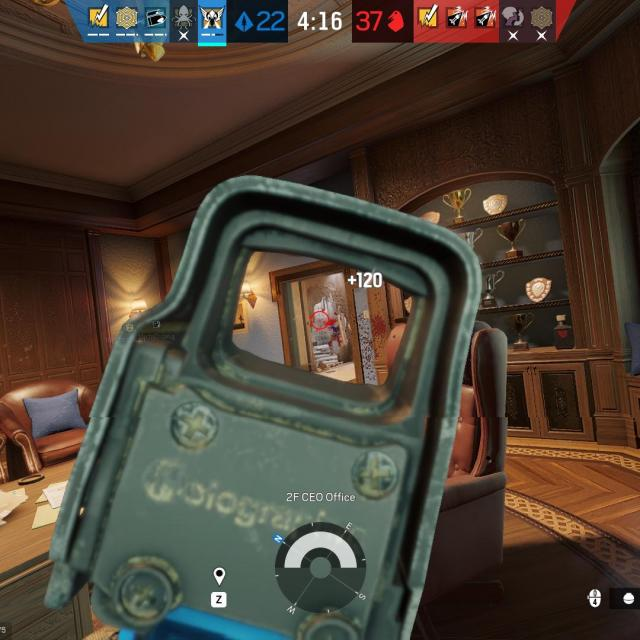Character: (328, 313, 343, 357)
Friend_label: (106, 322, 146, 344), (138, 318, 176, 340)
